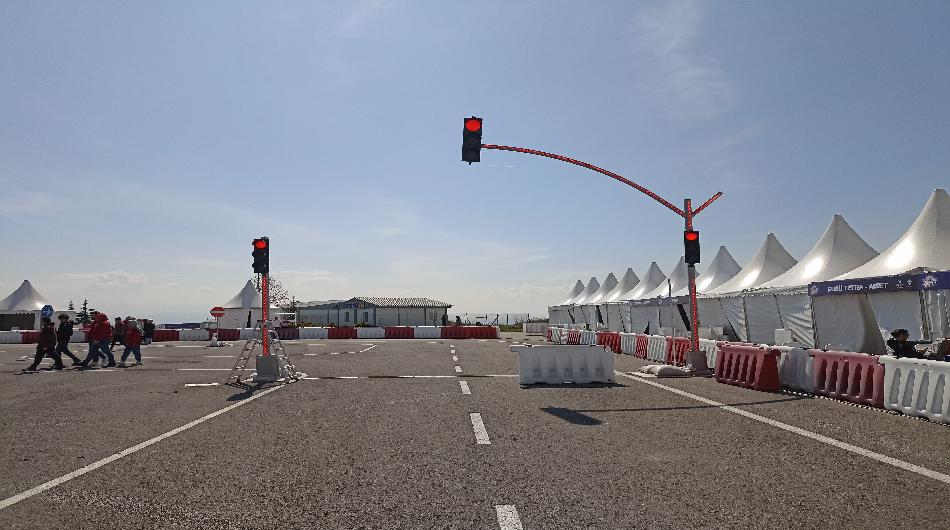red_light: (461, 114, 485, 163), (251, 237, 274, 278), (684, 230, 703, 263)
